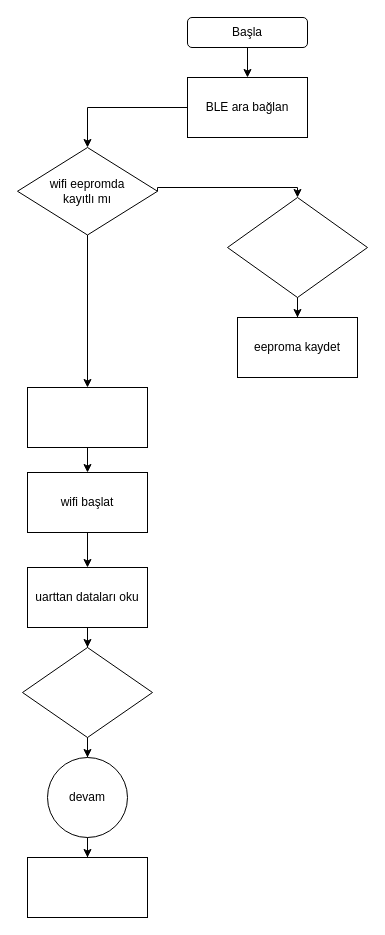
The diagram is 385 pixels wide and 935 high, and some of its shapes have lost their labels. Here are the shapes that lost their labels. From the top down, the centre of each, then its label:
At point 297,247: "gelen data wifi parametresi mi".
At point 87,417: "BLE kapat".
At point 87,692: "Data eskisiyle aynı mı?".
At point 87,887: "wifi kapat".
